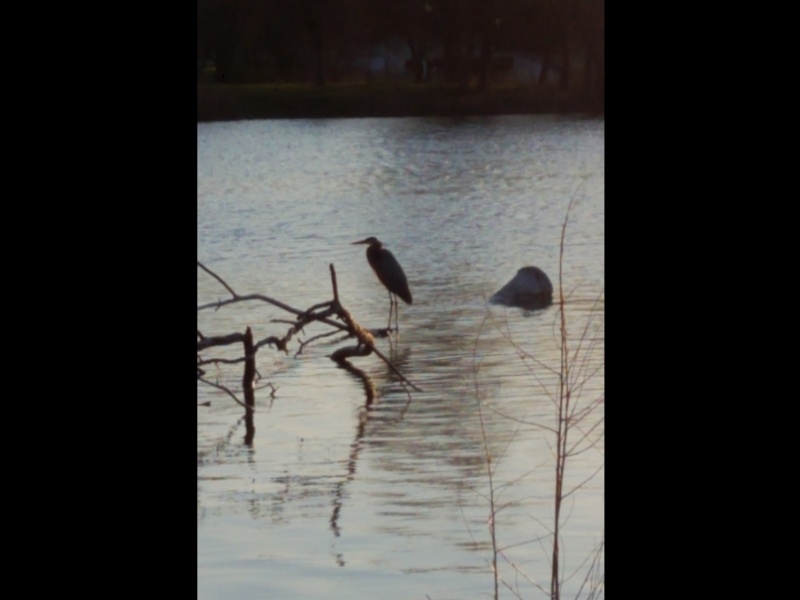heron: (350, 235, 414, 335)
